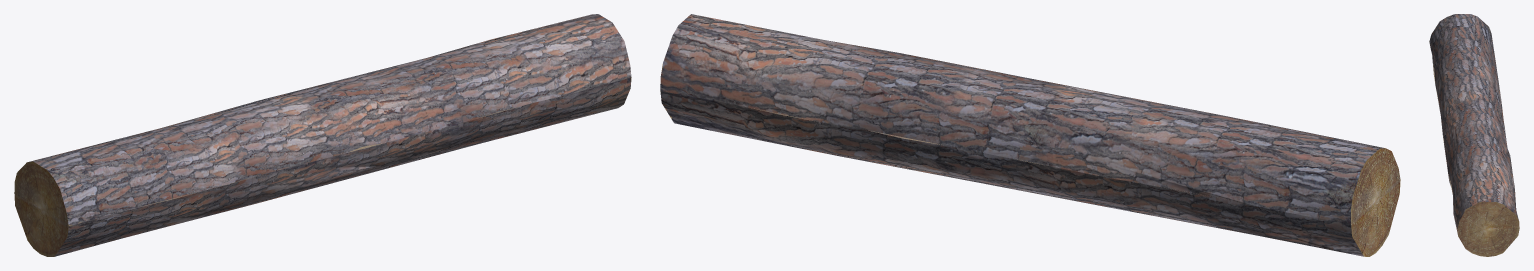
The model's file is trunk.FBX.
3 views of the same model, side by side, from view 1: azimuth 30°, elevation 25°; view 2: azimuth 150°, elevation 25°; view 3: azimuth 270°, elevation 25° (orthographic). The views are drawn at different scales.
Parts seen in each view (by area): view 1: trunk; view 2: trunk; view 3: trunk.
Part boxes in pixels (box(x1,y1,x2,y2)): trunk: box(14, 14, 631, 256); trunk: box(660, 14, 1400, 256); trunk: box(1429, 14, 1519, 256).
Bounding box in the file's own units: 398 × 62.68 × 82.82.
